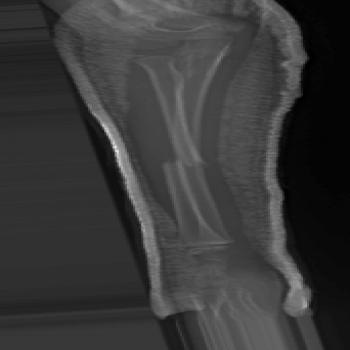Fracture: (157, 152, 208, 172)
